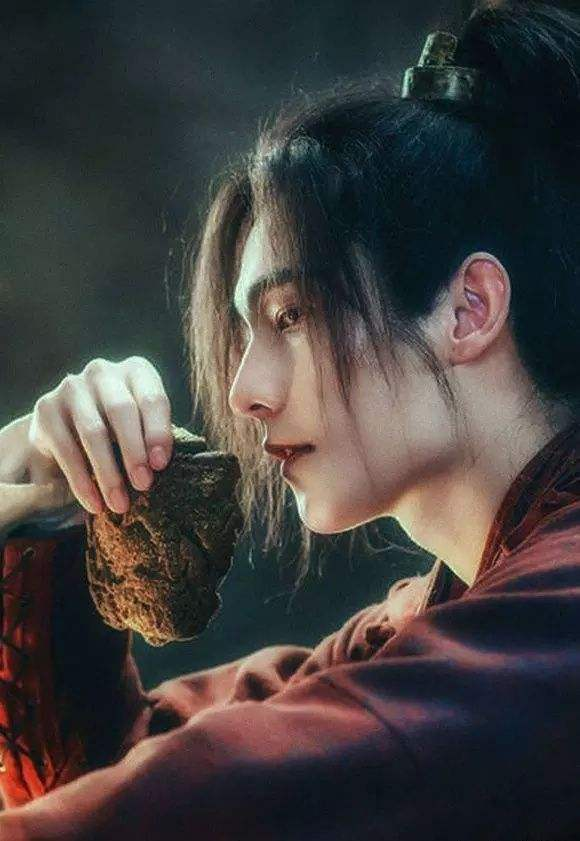person: (191, 81, 561, 823)
